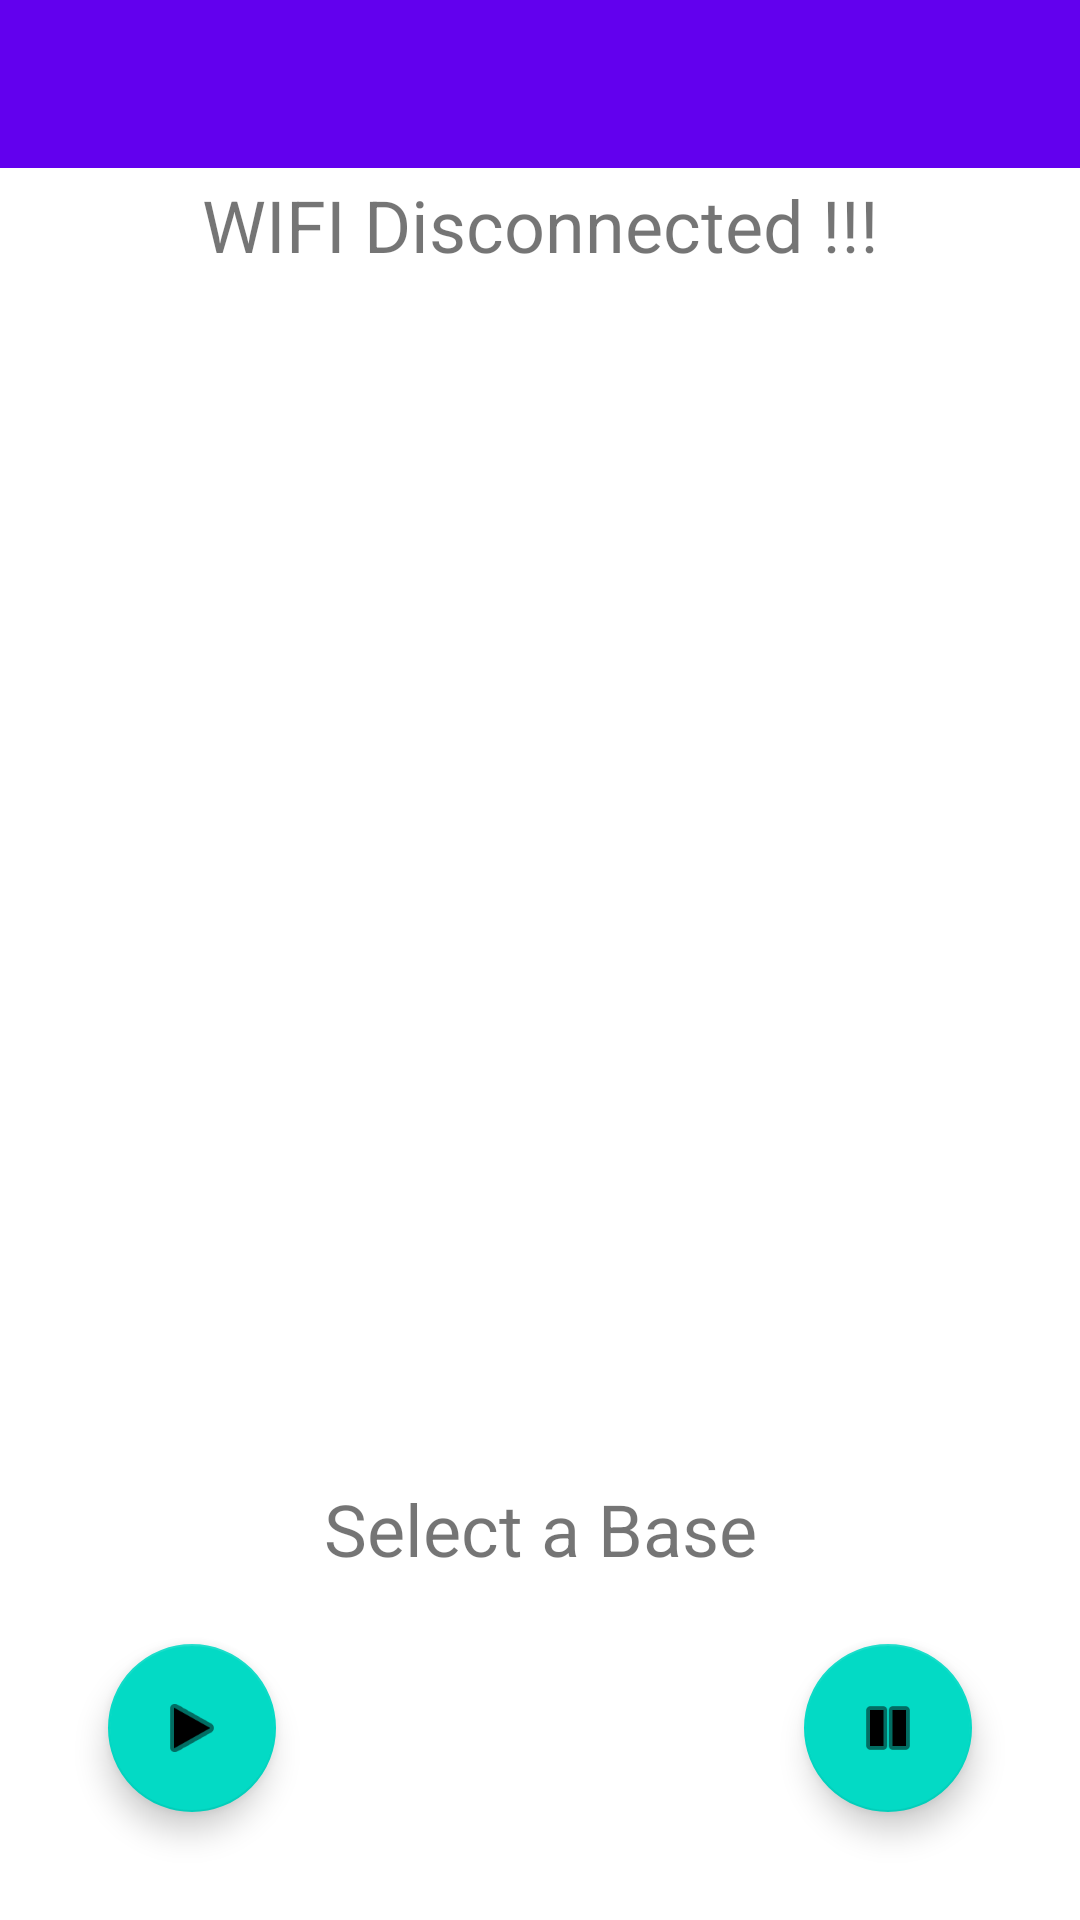

Named icons in this screenshot (1080w x 1920h) and their bounding boxes, rect(x1, y1, x2, y2):
pause: rect(804, 1644, 972, 1812)
play: rect(108, 1644, 276, 1812)
